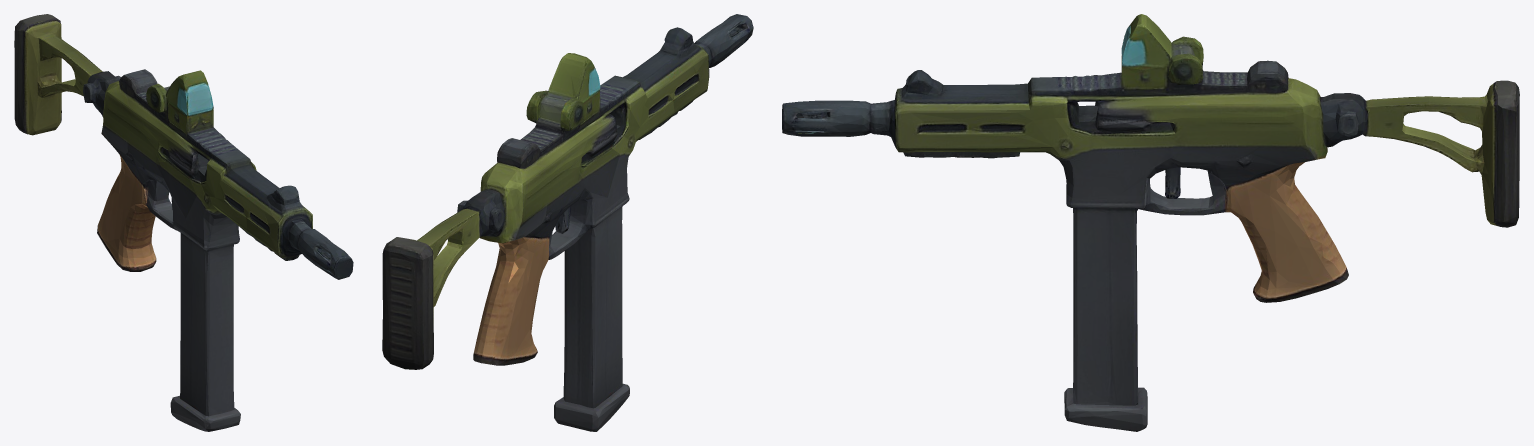
Rendered from smg.glb.
The picture shows the model from 3 angles, left to right: view 1: azimuth 30°, elevation 25°; view 2: azimuth 150°, elevation 25°; view 3: azimuth 270°, elevation 25°; orthographic projection. The views are drawn at different scales.
Parts seen in each view (by area): view 1: geometry_0; view 2: geometry_0; view 3: geometry_0.
Part boxes in pixels (x1,y1,x2,y2): geometry_0: (14, 14, 353, 431); geometry_0: (382, 14, 753, 431); geometry_0: (782, 14, 1519, 431).
Size of the model in its own units: 0.078 by 0.6047 by 0.9985.
Materials: 1 (1 with a texture image).
